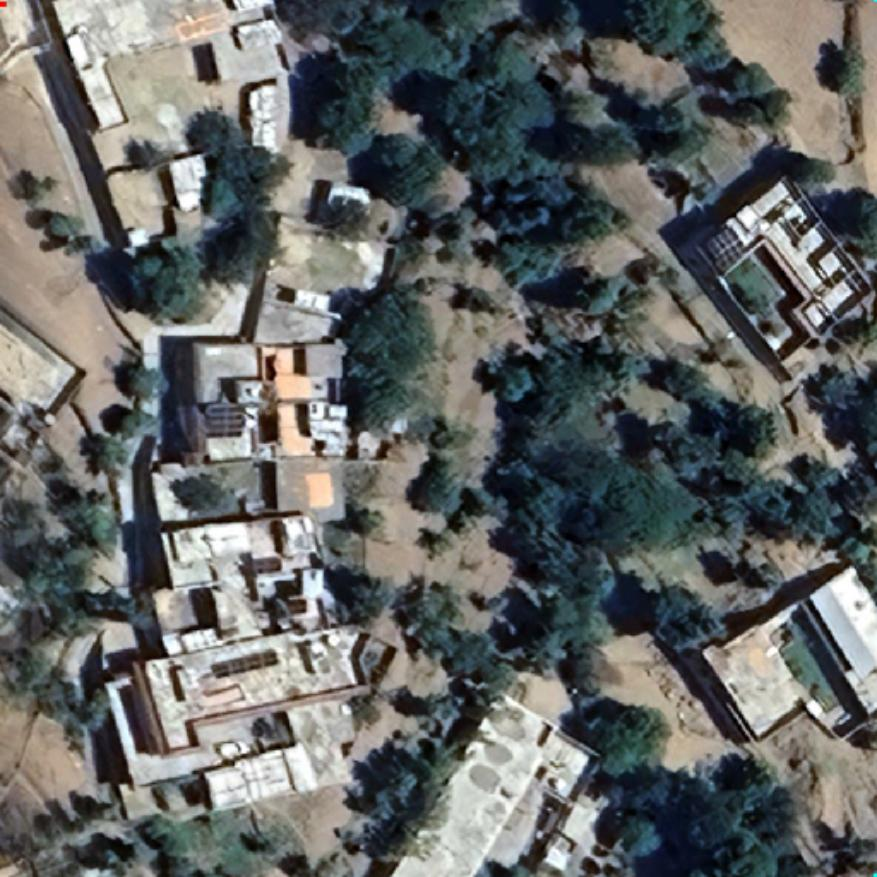Solarpanel: (208, 645, 284, 680), (205, 405, 246, 438)
